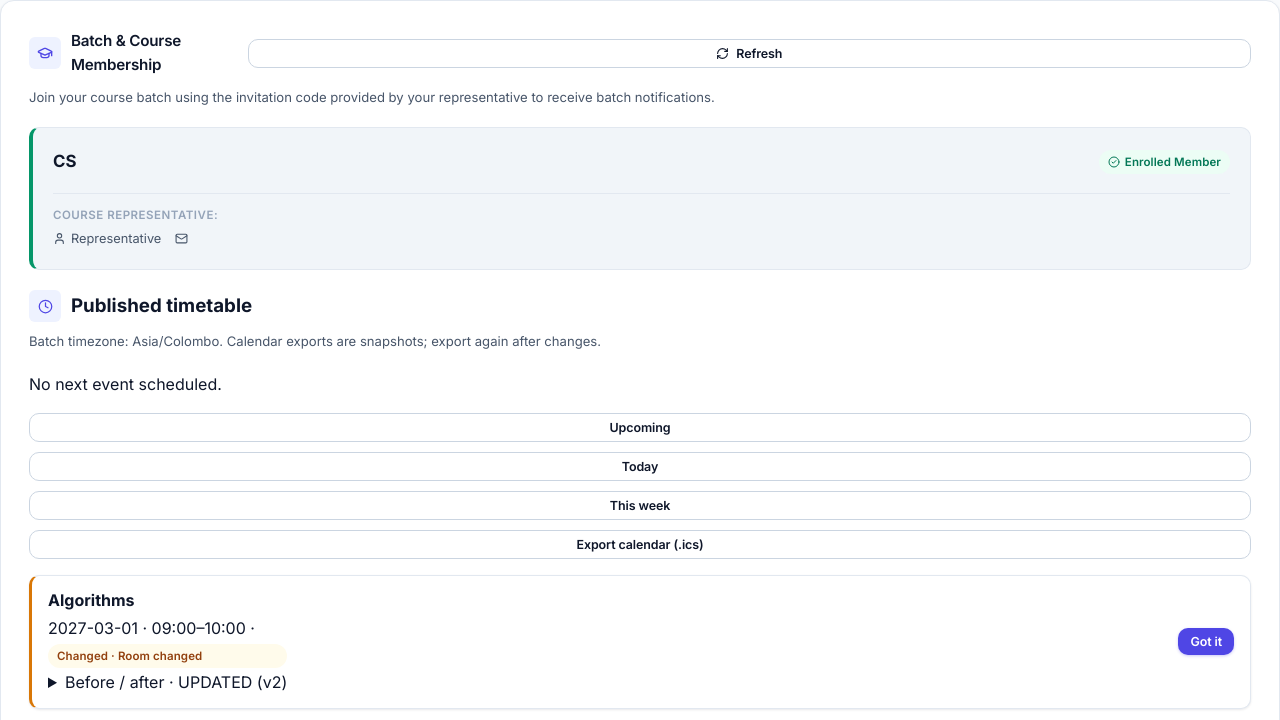
Test: StudentBatchView › approved students see published changes and acknowledge the current version
Expected: the text "Algorithms" is shown, [48,590,135,610]
Expected: the text "Changed · Room changed" is shown, [48,644,287,668]
Step 1. Click the button "Got it" → (1206, 642), box [1178,628,1234,656]
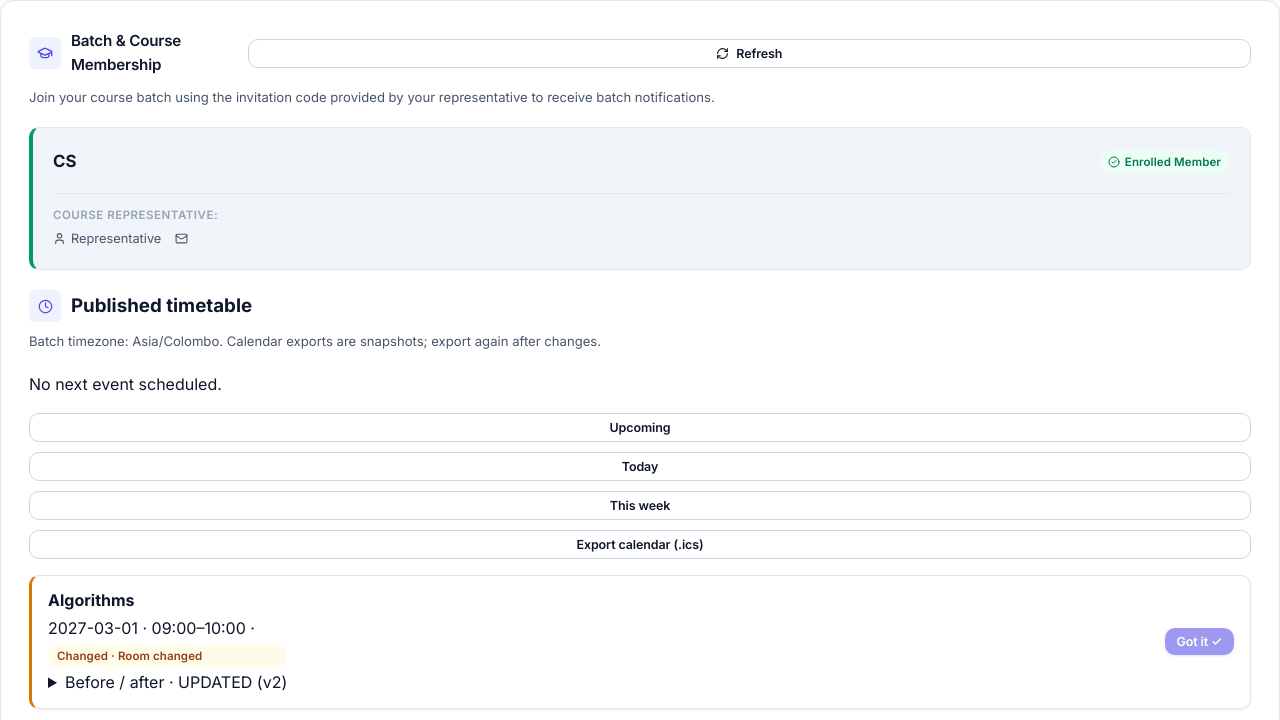
Now the button "Got it ✓" is disabled, box [1164,628,1234,656]
